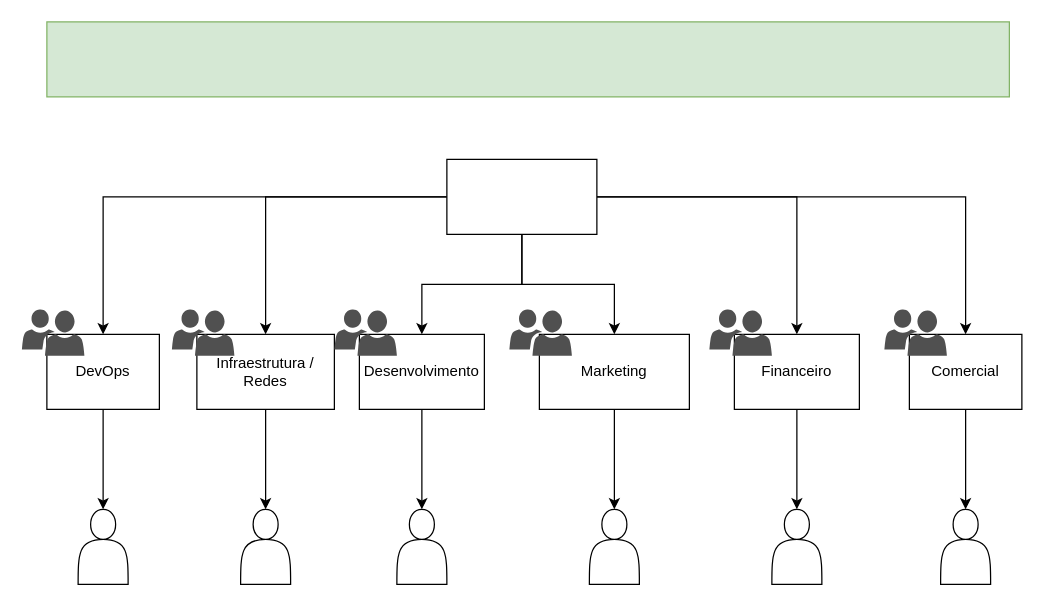
Image size: 1044x606. Some labels were removed from this diagram. Each missing label, with the box of its shape:
DIAGRAMA ORGANIZAÇÃO GRUPOS HSTECH - GCP: (46, 21, 1009, 97)
hstech.com.br: (446, 158, 597, 234)
